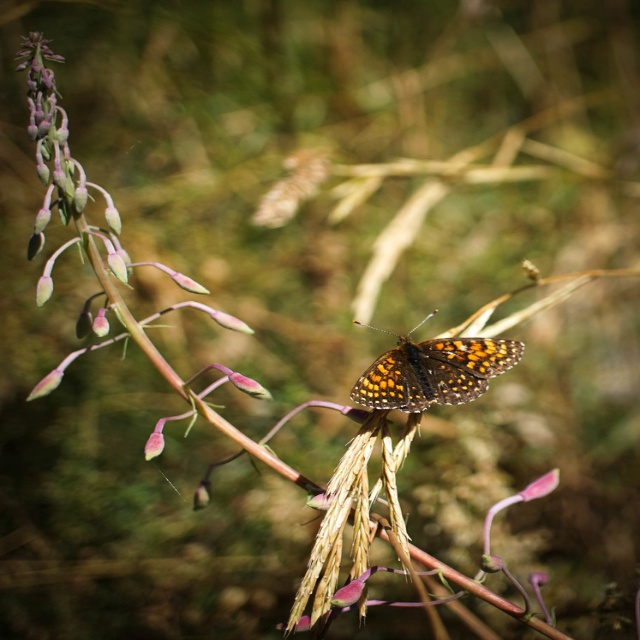Butterfly: (339, 308, 526, 427)
